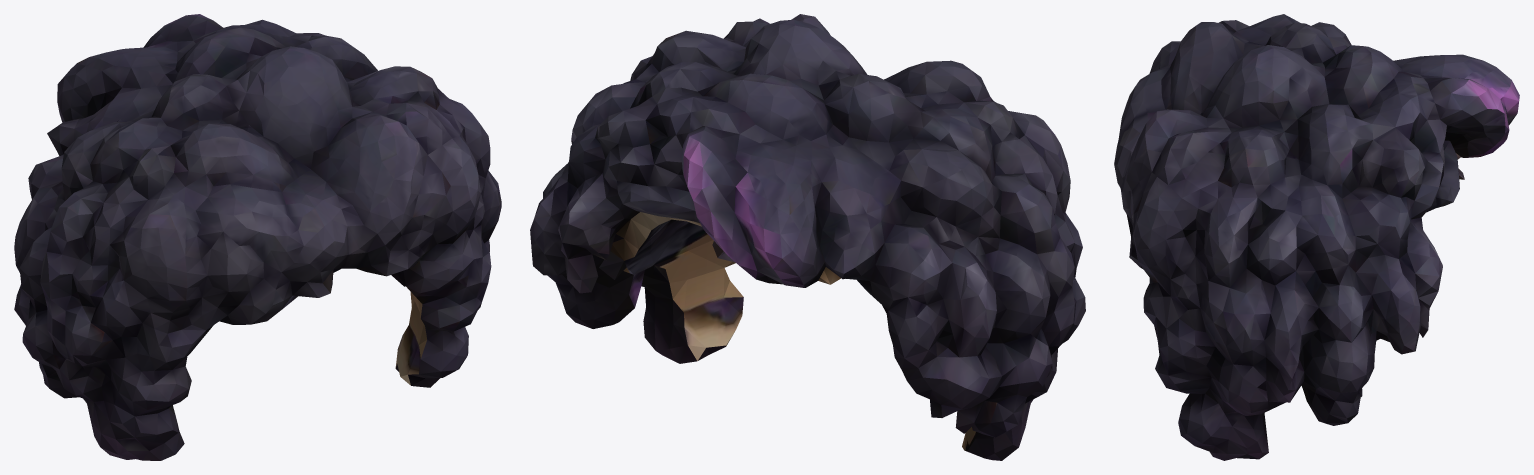
The model's file is hairstyle_051.glb.
The picture shows the model from 3 angles, left to right: view 1: azimuth 30°, elevation 25°; view 2: azimuth 150°, elevation 25°; view 3: azimuth 270°, elevation 25°; orthographic projection. The views are drawn at different scales.
Visible parts, largest first — view 1: geometry_0_051; view 2: geometry_0_051; view 3: geometry_0_051.
Boxes of the visible parts, x1,y1,x2,y2 form: geometry_0_051: (14,14,501,460); geometry_0_051: (530,14,1085,460); geometry_0_051: (1114,14,1519,460).
Size of the model in its own units: 1.39 by 1.05 by 1.04.
Materials: 1 (1 with a texture image).
